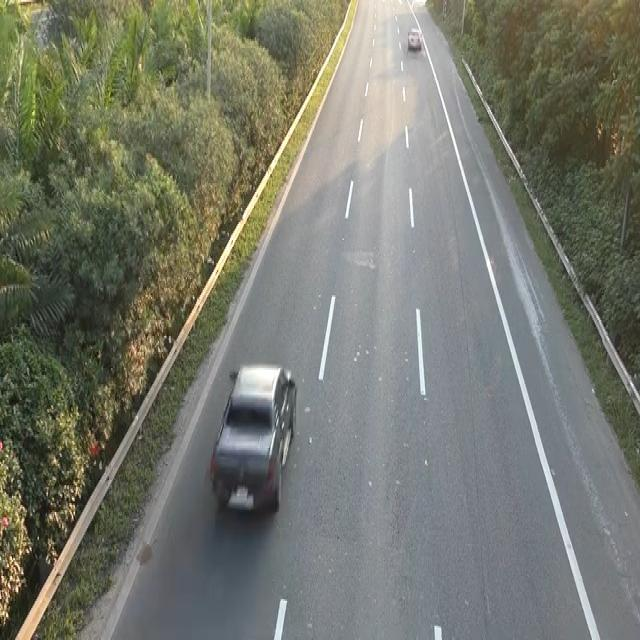bus: (207, 358, 298, 516), (406, 25, 422, 51)
